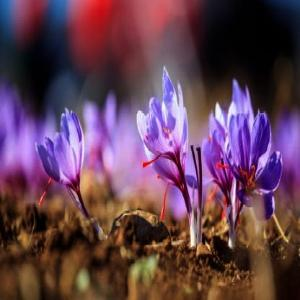Saffron: (136, 66, 189, 174), (235, 102, 276, 212), (38, 108, 85, 200), (204, 124, 238, 206)
